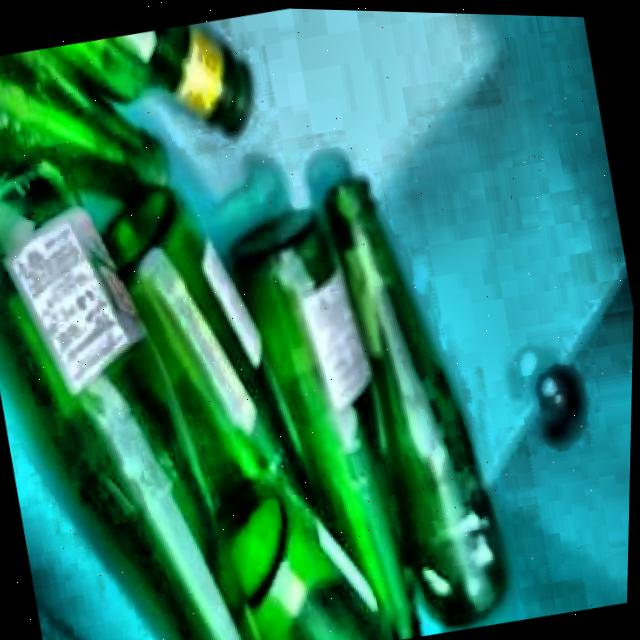glass: (0, 23, 510, 640)
